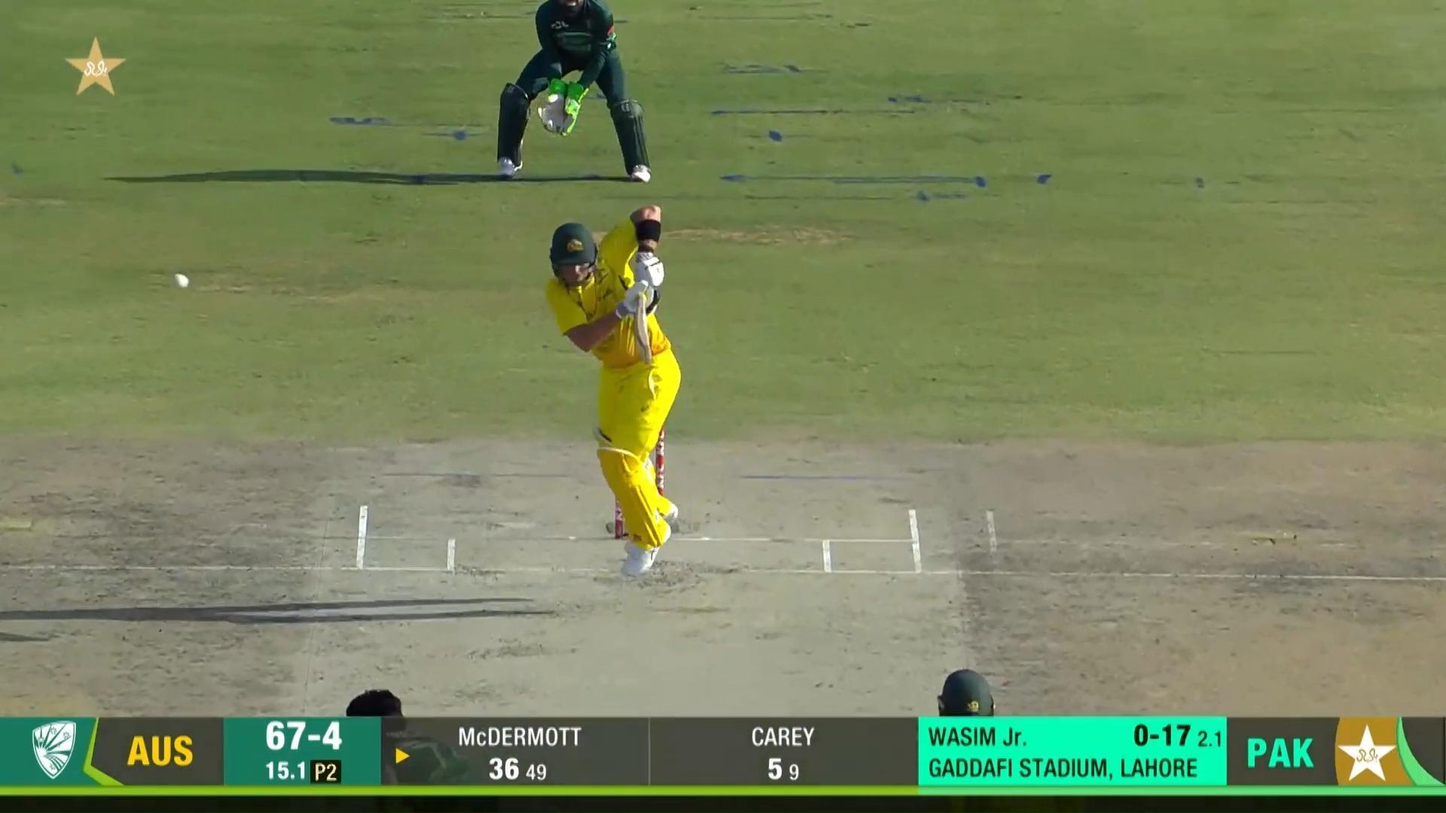BM 1: (540, 201, 683, 579)
BO: (345, 683, 490, 792)
